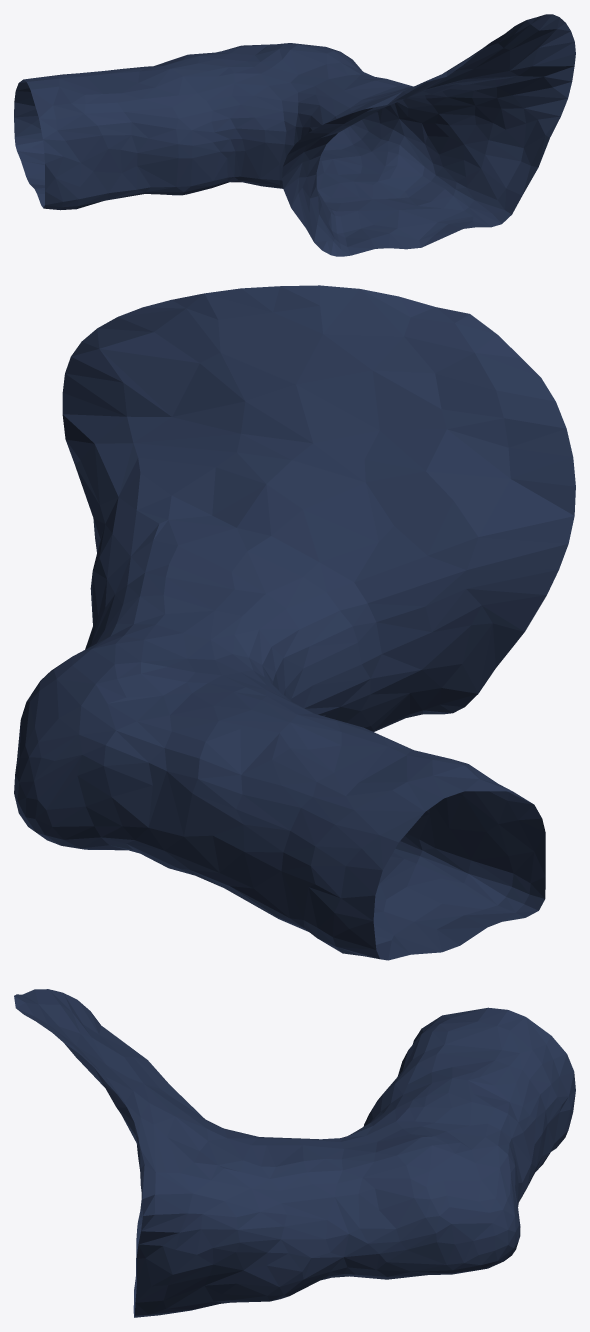
Rendered from mazeEntrance.fbx.
3 views of the same model, one above another, from view 1: azimuth 30°, elevation 25°; view 2: azimuth 150°, elevation 25°; view 3: azimuth 270°, elevation 25° (orthographic). The views are drawn at different scales.
Parts seen in each view (by area): view 1: Cube.001; view 2: Cube.001; view 3: Cube.001.
Part boxes in pixels (x1,y1,x2,y2): Cube.001: (14,14,575,256); Cube.001: (14,285,575,960); Cube.001: (14,989,575,1317).
Size of the model in its own units: 1034 by 530 by 1016.
